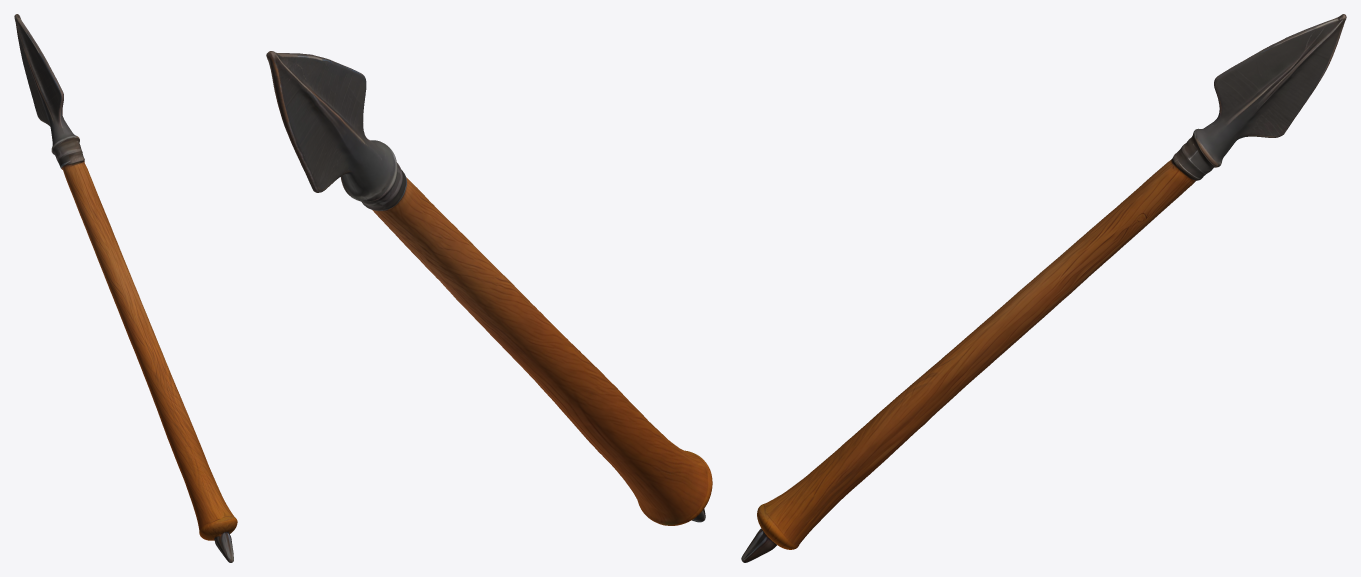
The model's file is hunting_spear.glb.
The picture shows the model from 3 angles, left to right: view 1: azimuth 30°, elevation 25°; view 2: azimuth 150°, elevation 25°; view 3: azimuth 270°, elevation 25°; orthographic projection. The views are drawn at different scales.
Parts seen in each view (by area): view 1: tripo_node_66fa522a-6793-485a-963e-2b0a235cf14a; view 2: tripo_node_66fa522a-6793-485a-963e-2b0a235cf14a; view 3: tripo_node_66fa522a-6793-485a-963e-2b0a235cf14a.
Boxes of the visible parts, bbox=[...] form: tripo_node_66fa522a-6793-485a-963e-2b0a235cf14a: bbox=[14, 14, 237, 562]; tripo_node_66fa522a-6793-485a-963e-2b0a235cf14a: bbox=[266, 51, 712, 525]; tripo_node_66fa522a-6793-485a-963e-2b0a235cf14a: bbox=[741, 14, 1346, 562].
Bounding box in the file's own units: 0.0885 × 0.9468 × 0.9474.
Materials: 1 (1 with a texture image).
